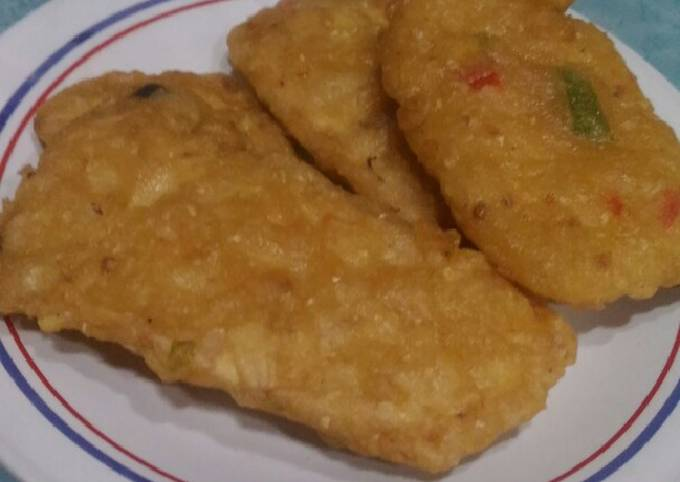Tempe: (26, 61, 485, 464), (386, 20, 679, 292), (251, 36, 418, 197)
